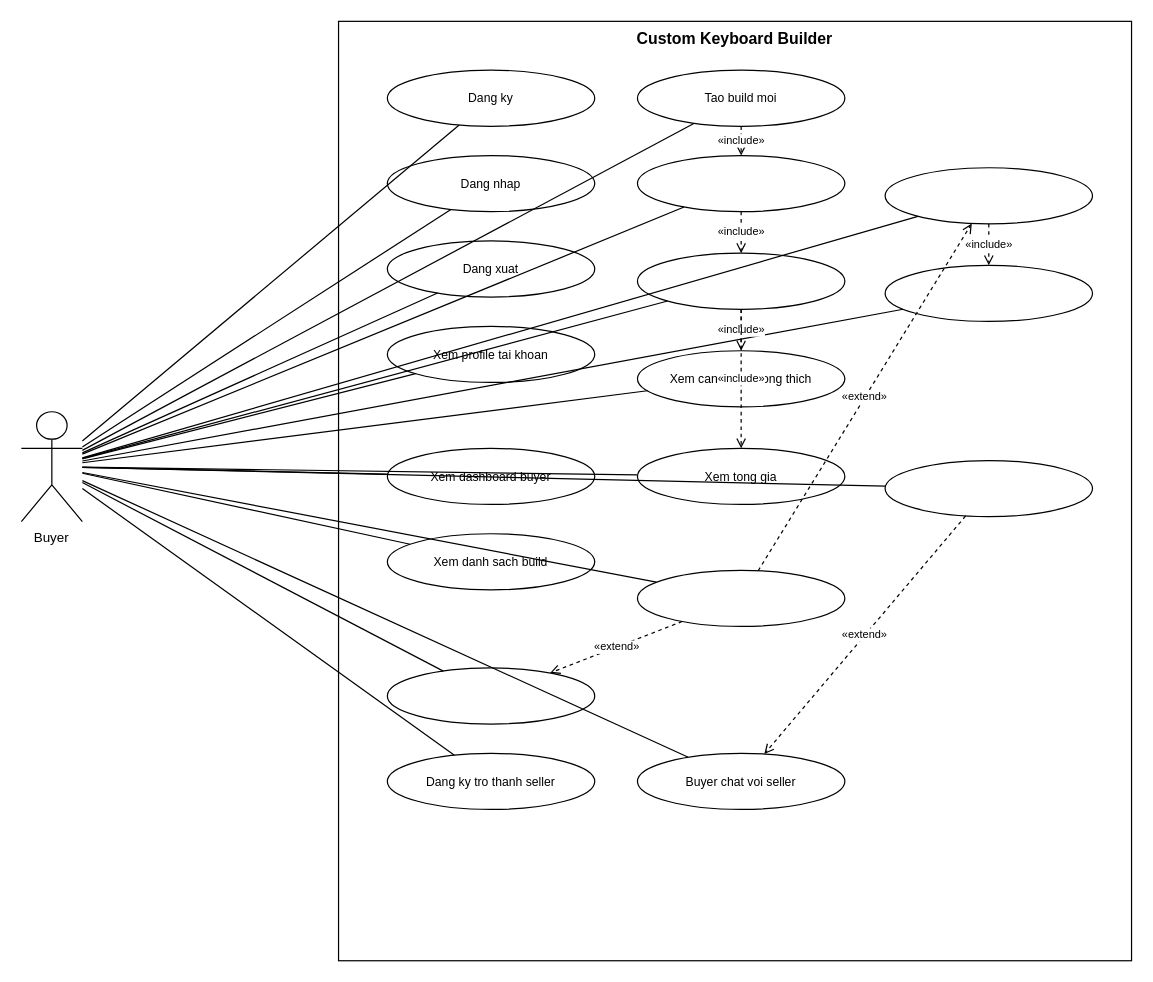
The diagram is 1153 pixels wide and 982 high, and some of its shapes have lost their labels. The centre of each missing label's shape, as x and y in pixels:
Chon keyboard kit: [740,183]
Chon seller: [988,292]
Gui request: [988,195]
Luu build: [740,597]
Luu tru build: [490,695]
Them linh kien vao build: [740,280]
Theo doi request: [988,488]
